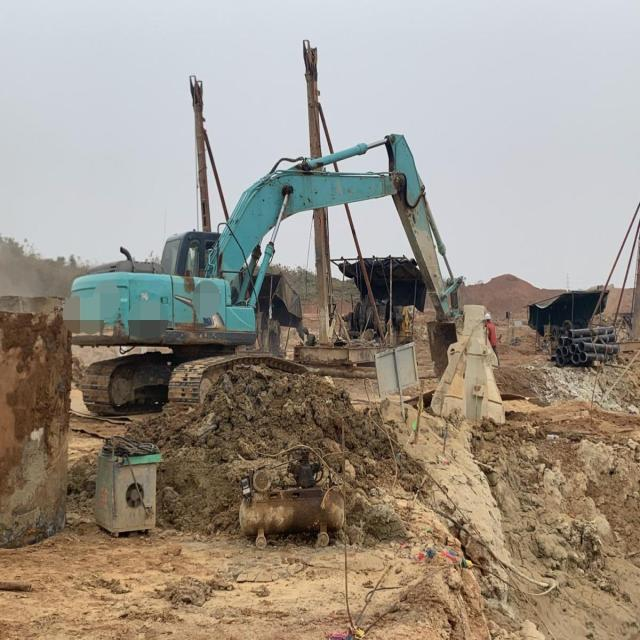excavator: (58, 124, 532, 435)
